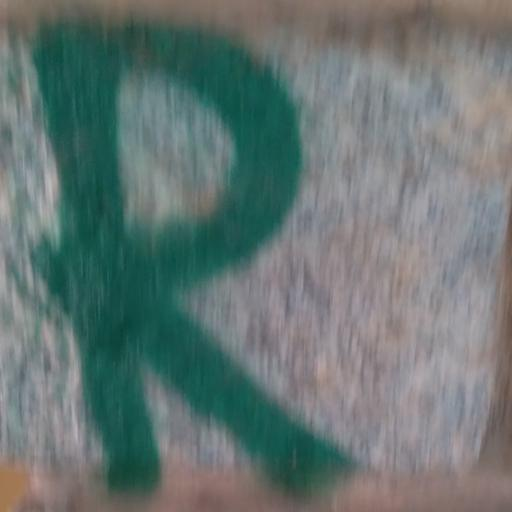stain: (20, 12, 371, 509)
